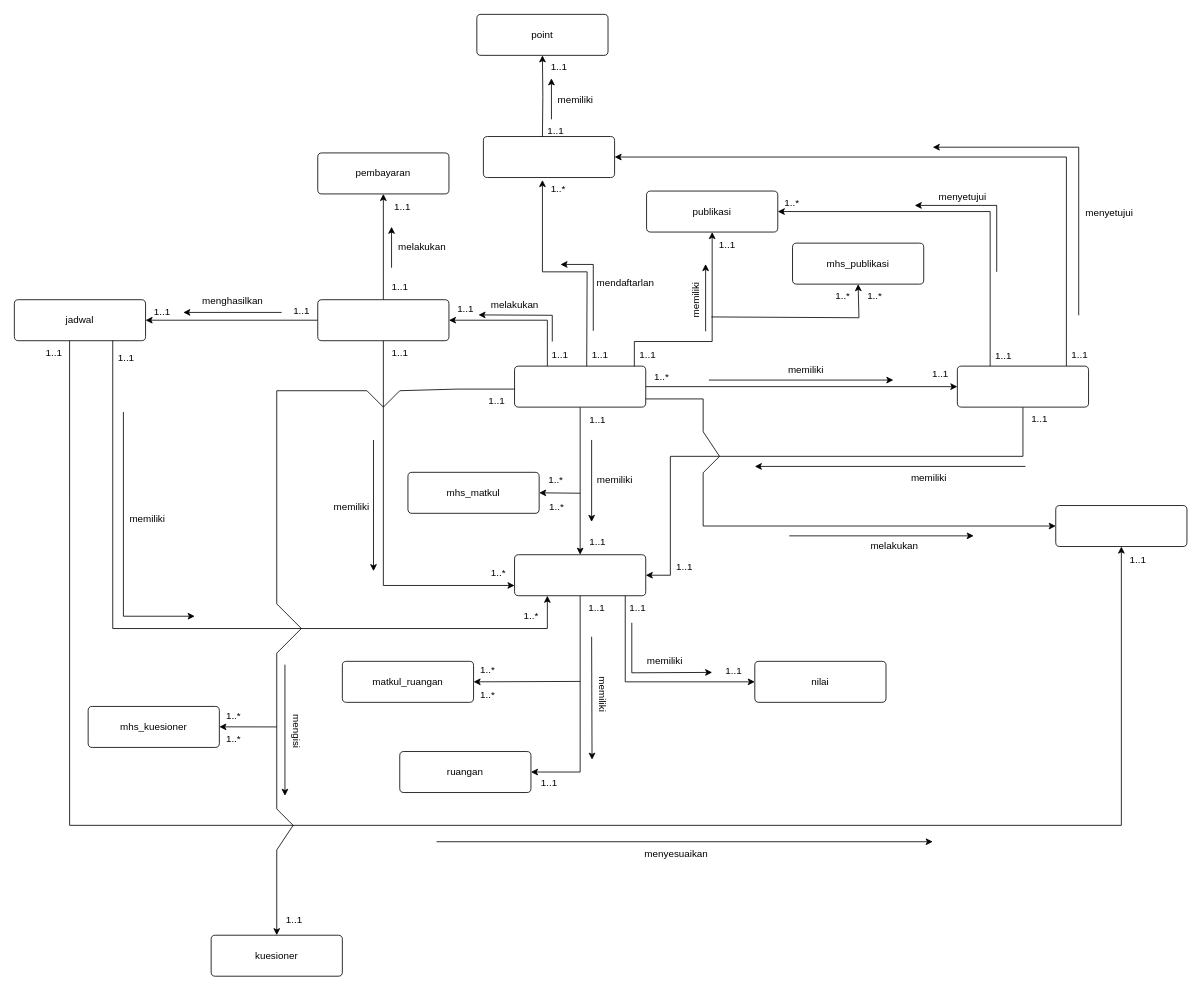
Some shapes in this 1201 by 991 pixel diagram are drawn without their labels. The shapes that lost their labels are listed below. From the top down, each one's centre as x and y in pixels, then its label:
At pixel 549 157: "kegiatan".
At pixel 383 320: "perwalian".
At pixel 580 386: "mhs".
At pixel 1023 386: "dosen".
At pixel 1121 526: "presensi".
At pixel 580 575: "matkul".
